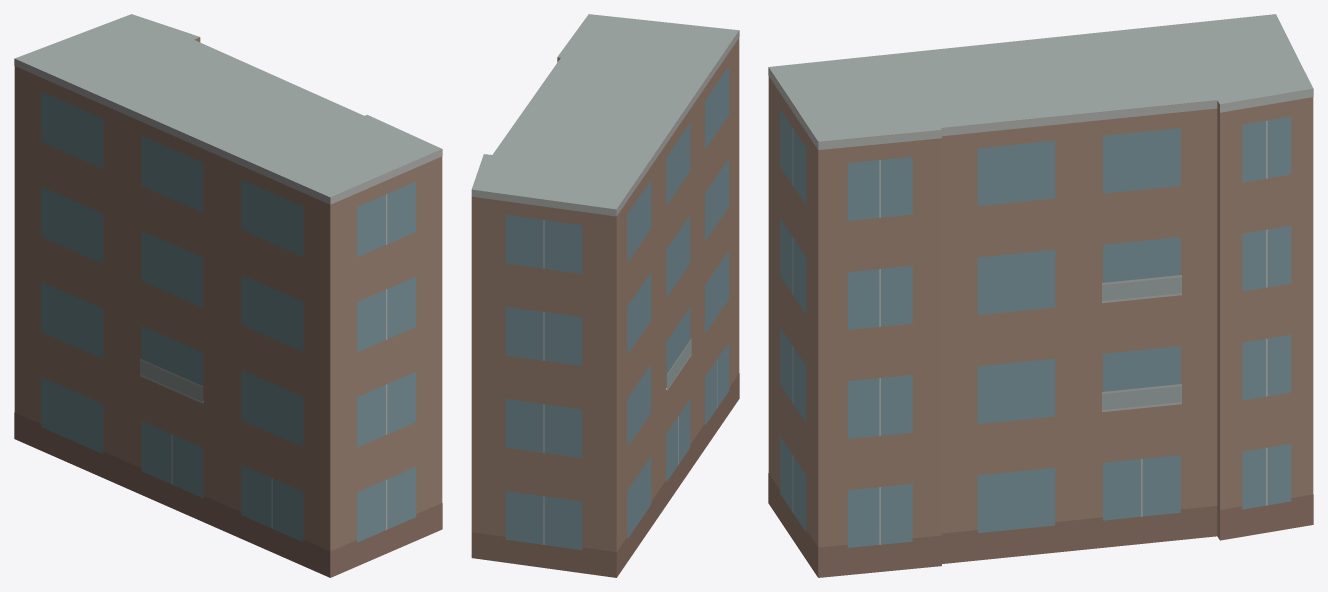
Rendered from survey-upis-32976657.glb.
3 views of the same model, side by side, from view 1: azimuth 30°, elevation 25°; view 2: azimuth 150°, elevation 25°; view 3: azimuth 270°, elevation 25° (orthographic). The views are drawn at different scales.
Visible parts, largest first — view 1: survey-upis-32976657.tmp; view 2: survey-upis-32976657.tmp; view 3: survey-upis-32976657.tmp.
Boxes of the visible parts, x1,y1,x2,y2 form: survey-upis-32976657.tmp: (14, 14, 442, 577); survey-upis-32976657.tmp: (471, 14, 739, 577); survey-upis-32976657.tmp: (768, 14, 1313, 577).
Bounding box in the file's own units: 8.01 × 12.74 × 14.44.
